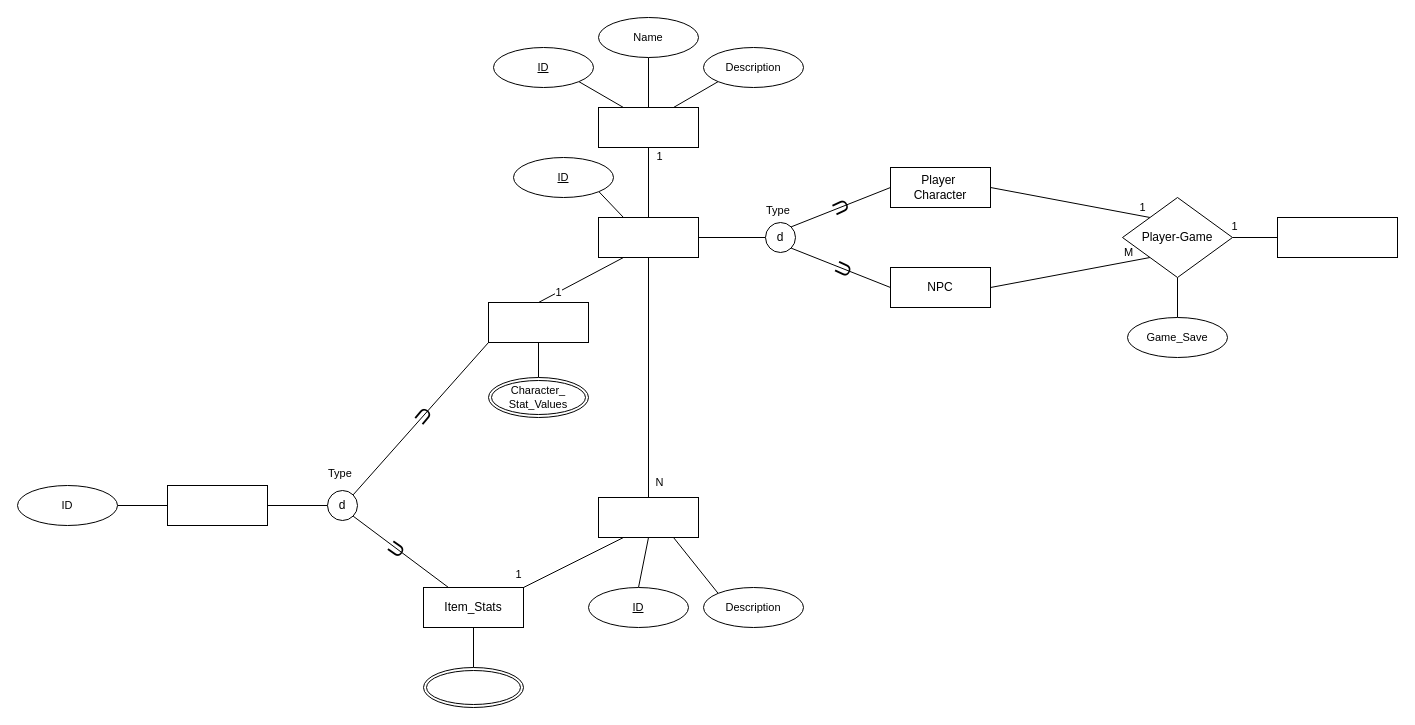
Image size: 1415x725. Some labels were removed from this diagram. Here are the shapes that lost their labels. From the top down, the box of each, then its label:
(598, 106, 698, 148): Location
(598, 216, 698, 258): Character
(1276, 216, 1398, 258): Game_State
(488, 302, 588, 342): Character_Stats
(166, 484, 268, 526): Stats
(598, 496, 698, 538): Items
(422, 666, 524, 708): Item_Stat_Values
